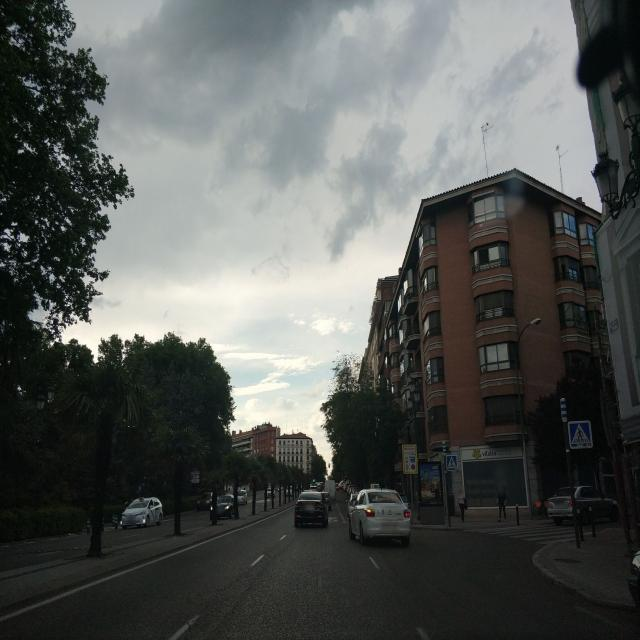car: (348, 488, 411, 545), (547, 485, 620, 524), (120, 495, 164, 528), (294, 490, 328, 528), (627, 534, 640, 614), (210, 493, 238, 520), (320, 490, 332, 510), (196, 496, 212, 510), (237, 490, 248, 504), (338, 482, 344, 489)
